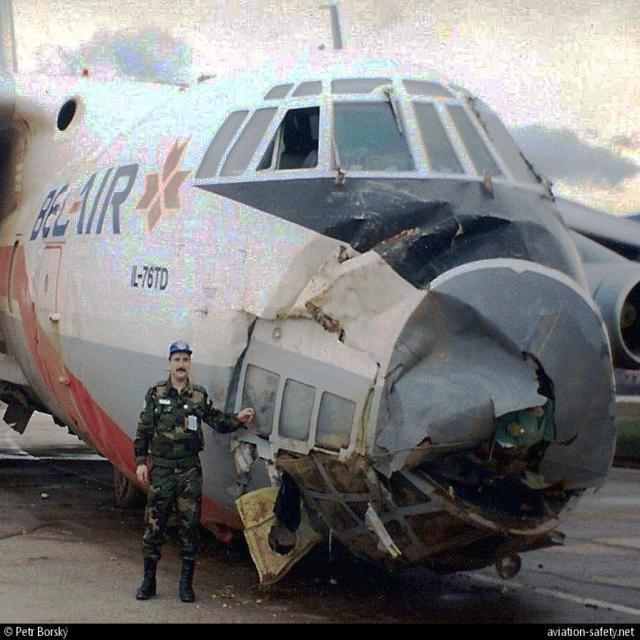crack: (413, 353, 565, 578), (234, 434, 420, 586), (225, 318, 259, 416)
dent: (373, 292, 549, 478), (331, 212, 521, 261), (319, 183, 440, 253)
